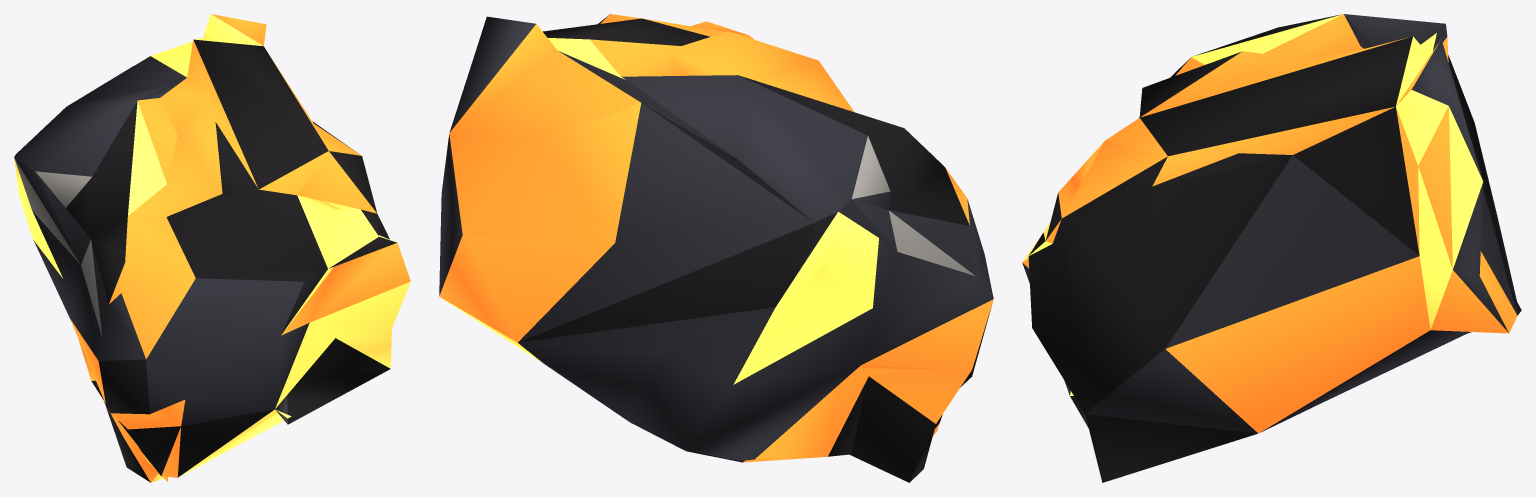
File: ember_coal_hot_b_lod2.glb
3 views of the same model, side by side, from view 1: azimuth 30°, elevation 25°; view 2: azimuth 150°, elevation 25°; view 3: azimuth 270°, elevation 25° (orthographic). The views are drawn at different scales.
Visible parts, largest first — view 1: ember_coal_hot_b.001; view 2: ember_coal_hot_b.001; view 3: ember_coal_hot_b.001.
Part boxes in pixels (x1=…): ember_coal_hot_b.001: x1=14, y1=14, x2=410, y2=482; ember_coal_hot_b.001: x1=439, y1=14, x2=993, y2=482; ember_coal_hot_b.001: x1=1022, y1=14, x2=1521, y2=482.
Size of the model in its own units: 2.95 by 3.49 by 3.17.
